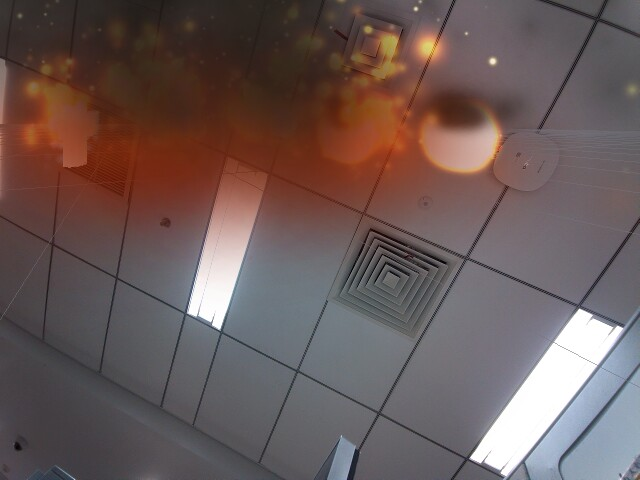fire: (416, 95, 505, 175), (315, 108, 380, 165)
